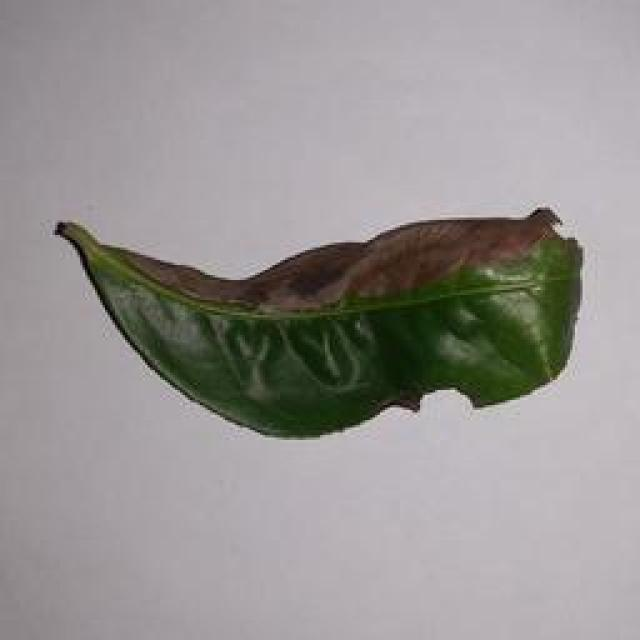Brown Blight: (43, 183, 597, 455)
